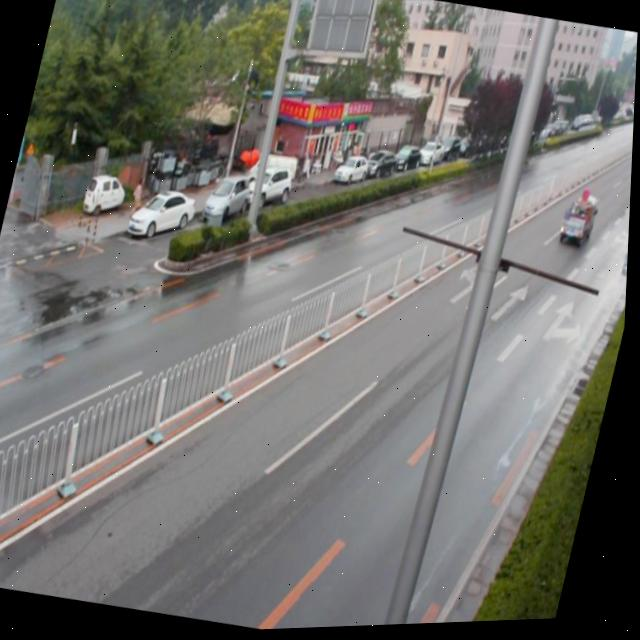bus: (559, 187, 601, 254)
